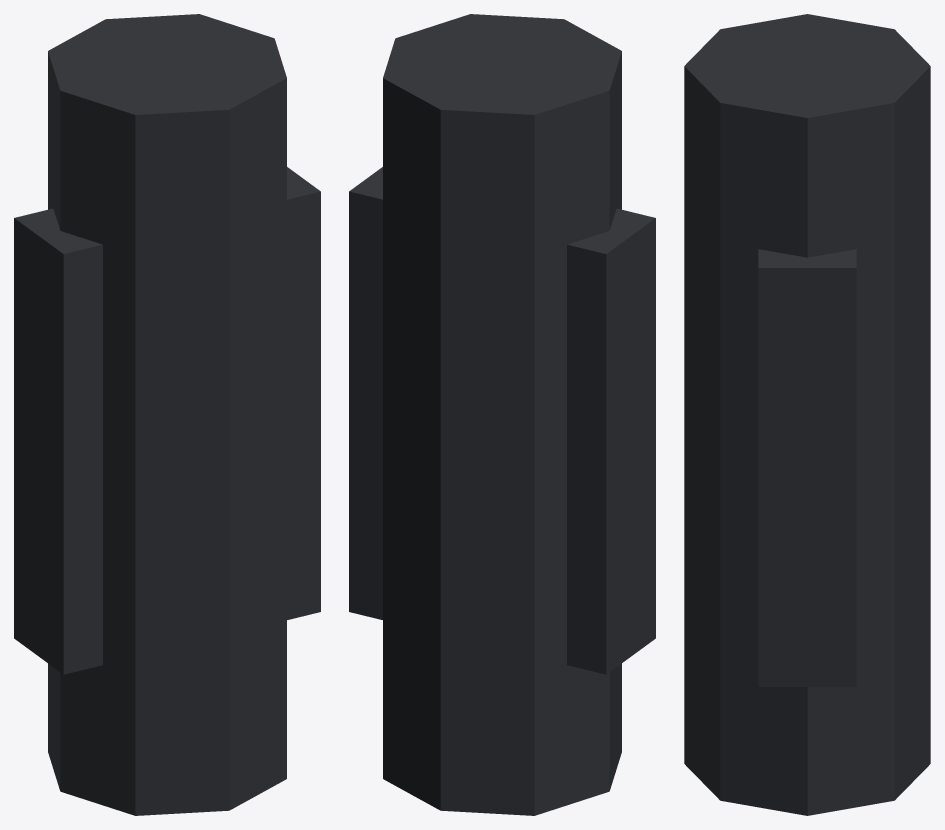
The model's file is Brake_AK74.fbx.
3 renders of one model, left to right at view 1: azimuth 30°, elevation 25°; view 2: azimuth 150°, elevation 25°; view 3: azimuth 270°, elevation 25°, orthographic.
Visible parts, largest first — view 1: prims; view 2: prims; view 3: prims.
Boxes of the visible parts, box(x1,y1,x2,y2) form: prims: box(14, 14, 320, 815); prims: box(349, 14, 655, 815); prims: box(684, 14, 930, 815).
Size of the model in its own units: 0.0173 by 0.045 by 0.0144.
